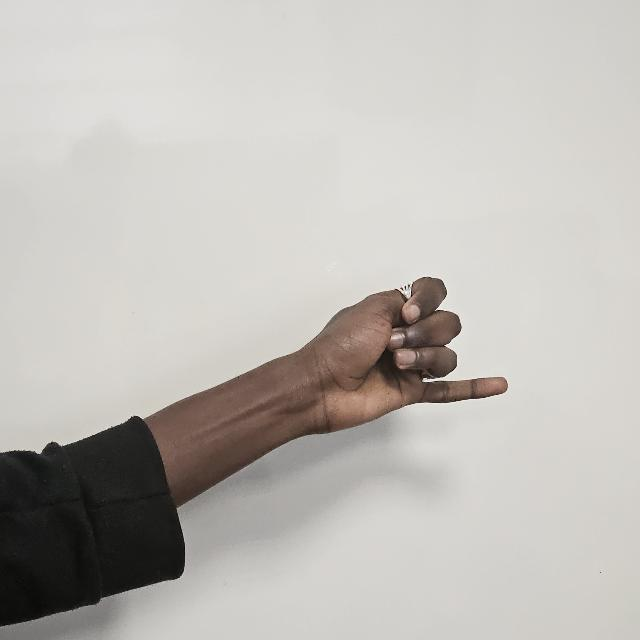Esquerda: (288, 233, 522, 424)
